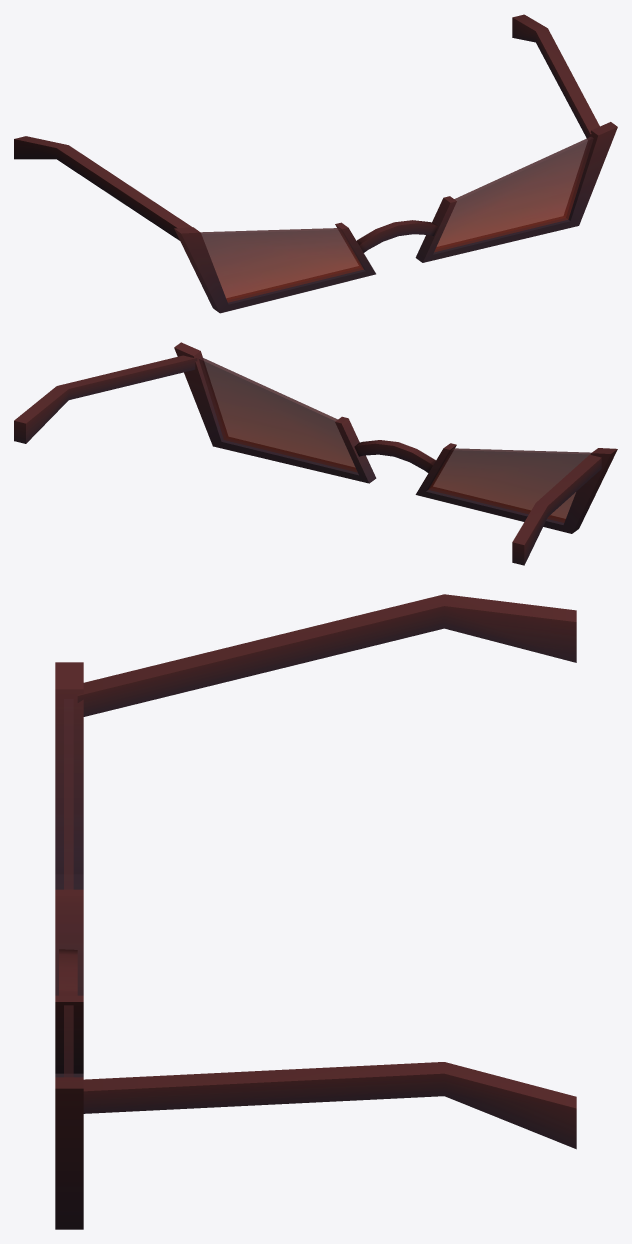
The model's file is Glasses_Dev_Dream.gltf.
3 renders of one model, top to bottom at view 1: azimuth 30°, elevation 25°; view 2: azimuth 150°, elevation 25°; view 3: azimuth 270°, elevation 25°, orthographic. The views are drawn at different scales.
Visible parts, largest first — view 1: Glasses_Dev_Dream; view 2: Glasses_Dev_Dream; view 3: Glasses_Dev_Dream.
Boxes of the visible parts, x1=… form: Glasses_Dev_Dream: x1=14, y1=14, x2=617, y2=313; Glasses_Dev_Dream: x1=14, y1=342, x2=617, y2=565; Glasses_Dev_Dream: x1=55, y1=594, x2=576, y2=1229.
Size of the model in its own units: 0.9524 by 0.1966 by 0.4213.
2 materials, 2 textured.
